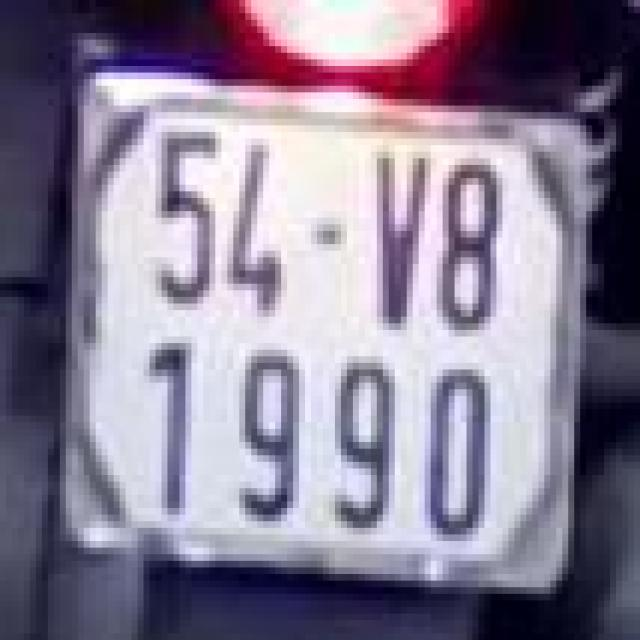0: (413, 360, 508, 558)
1: (150, 317, 198, 534)
4: (227, 135, 293, 320)
5: (146, 119, 224, 303)
8: (440, 145, 506, 350)
9: (227, 340, 311, 531), (326, 353, 398, 531)
V: (362, 135, 428, 340)
